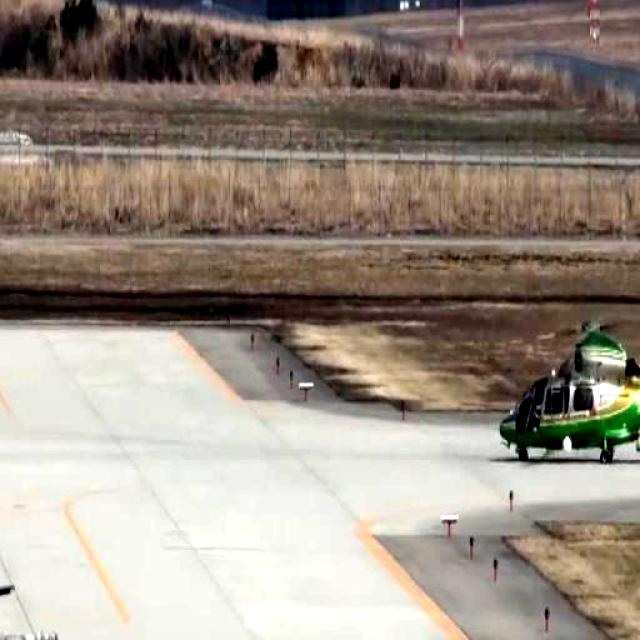drone: (498, 294, 640, 479)
